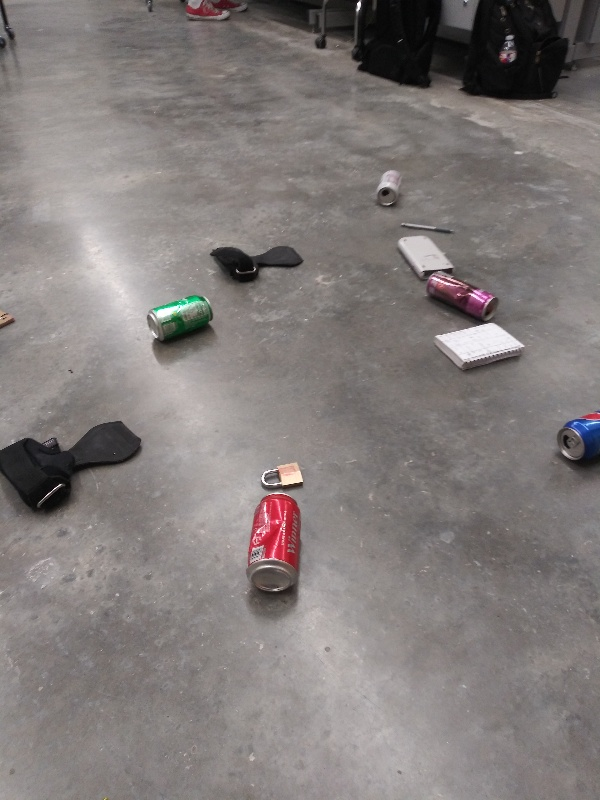can: (242, 489, 310, 598), (418, 270, 501, 323), (142, 291, 218, 346), (554, 407, 600, 467), (370, 164, 410, 208)
